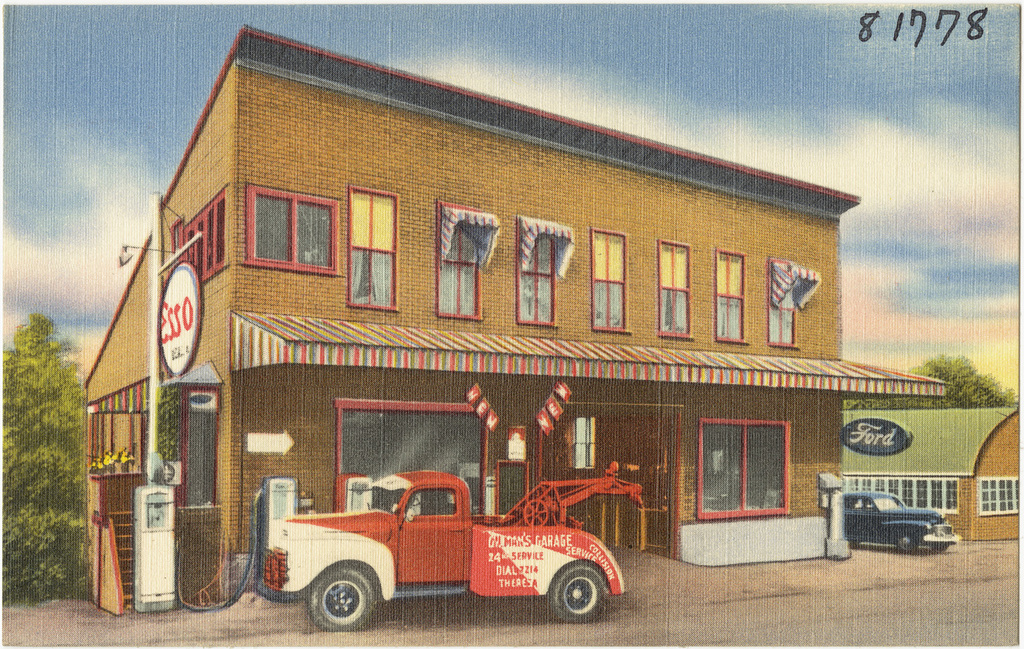cars: (837, 488, 966, 556)
